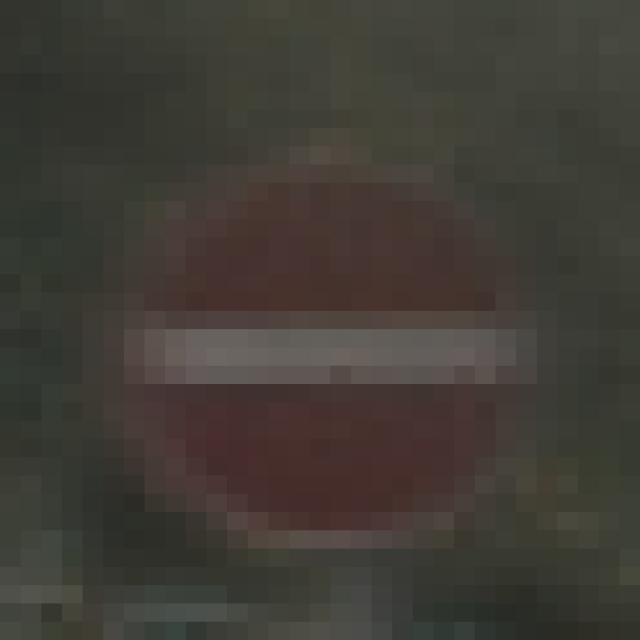No Entry: (104, 93, 538, 550)
